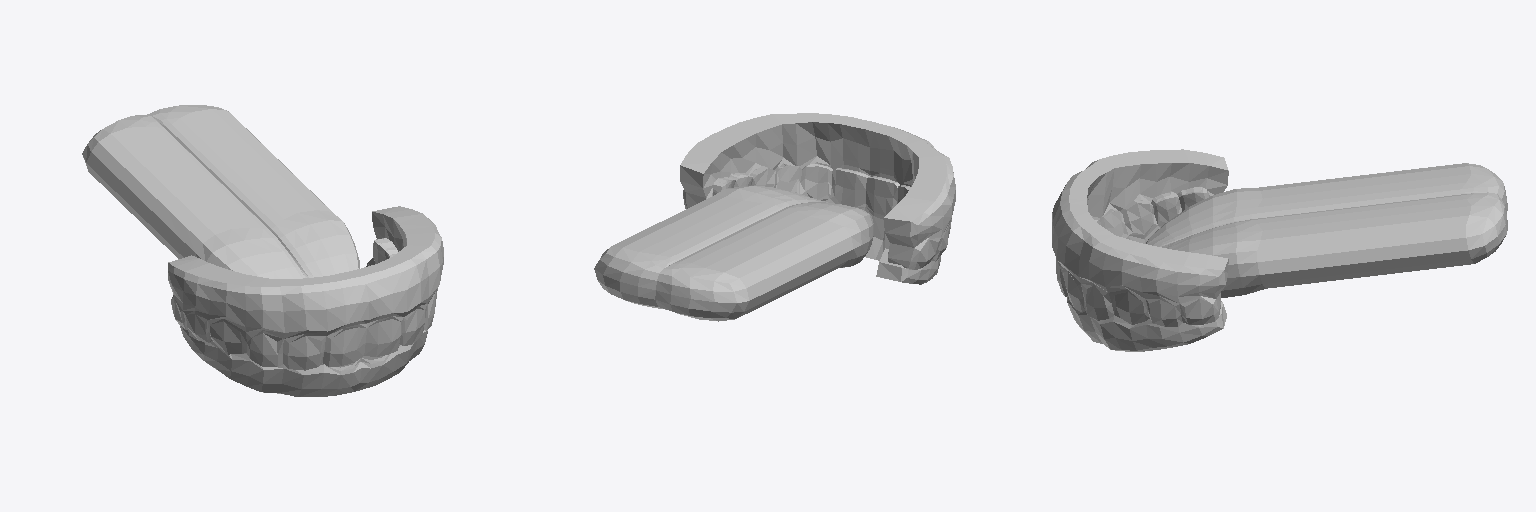
File: GIGI.obj
3 views of the same model, side by side, from view 1: azimuth 30°, elevation 25°; view 2: azimuth 150°, elevation 25°; view 3: azimuth 270°, elevation 25° (orthographic).
Visible parts, largest first — view 1: gigi; view 2: gigi; view 3: gigi.
Boxes of the visible parts, <box> form: gigi: <box>82,105,443,396</box>; gigi: <box>594,113,955,321</box>; gigi: <box>1052,149,1507,351</box>.
Size of the model in its own units: 0.0594 by 0.0302 by 0.0945.